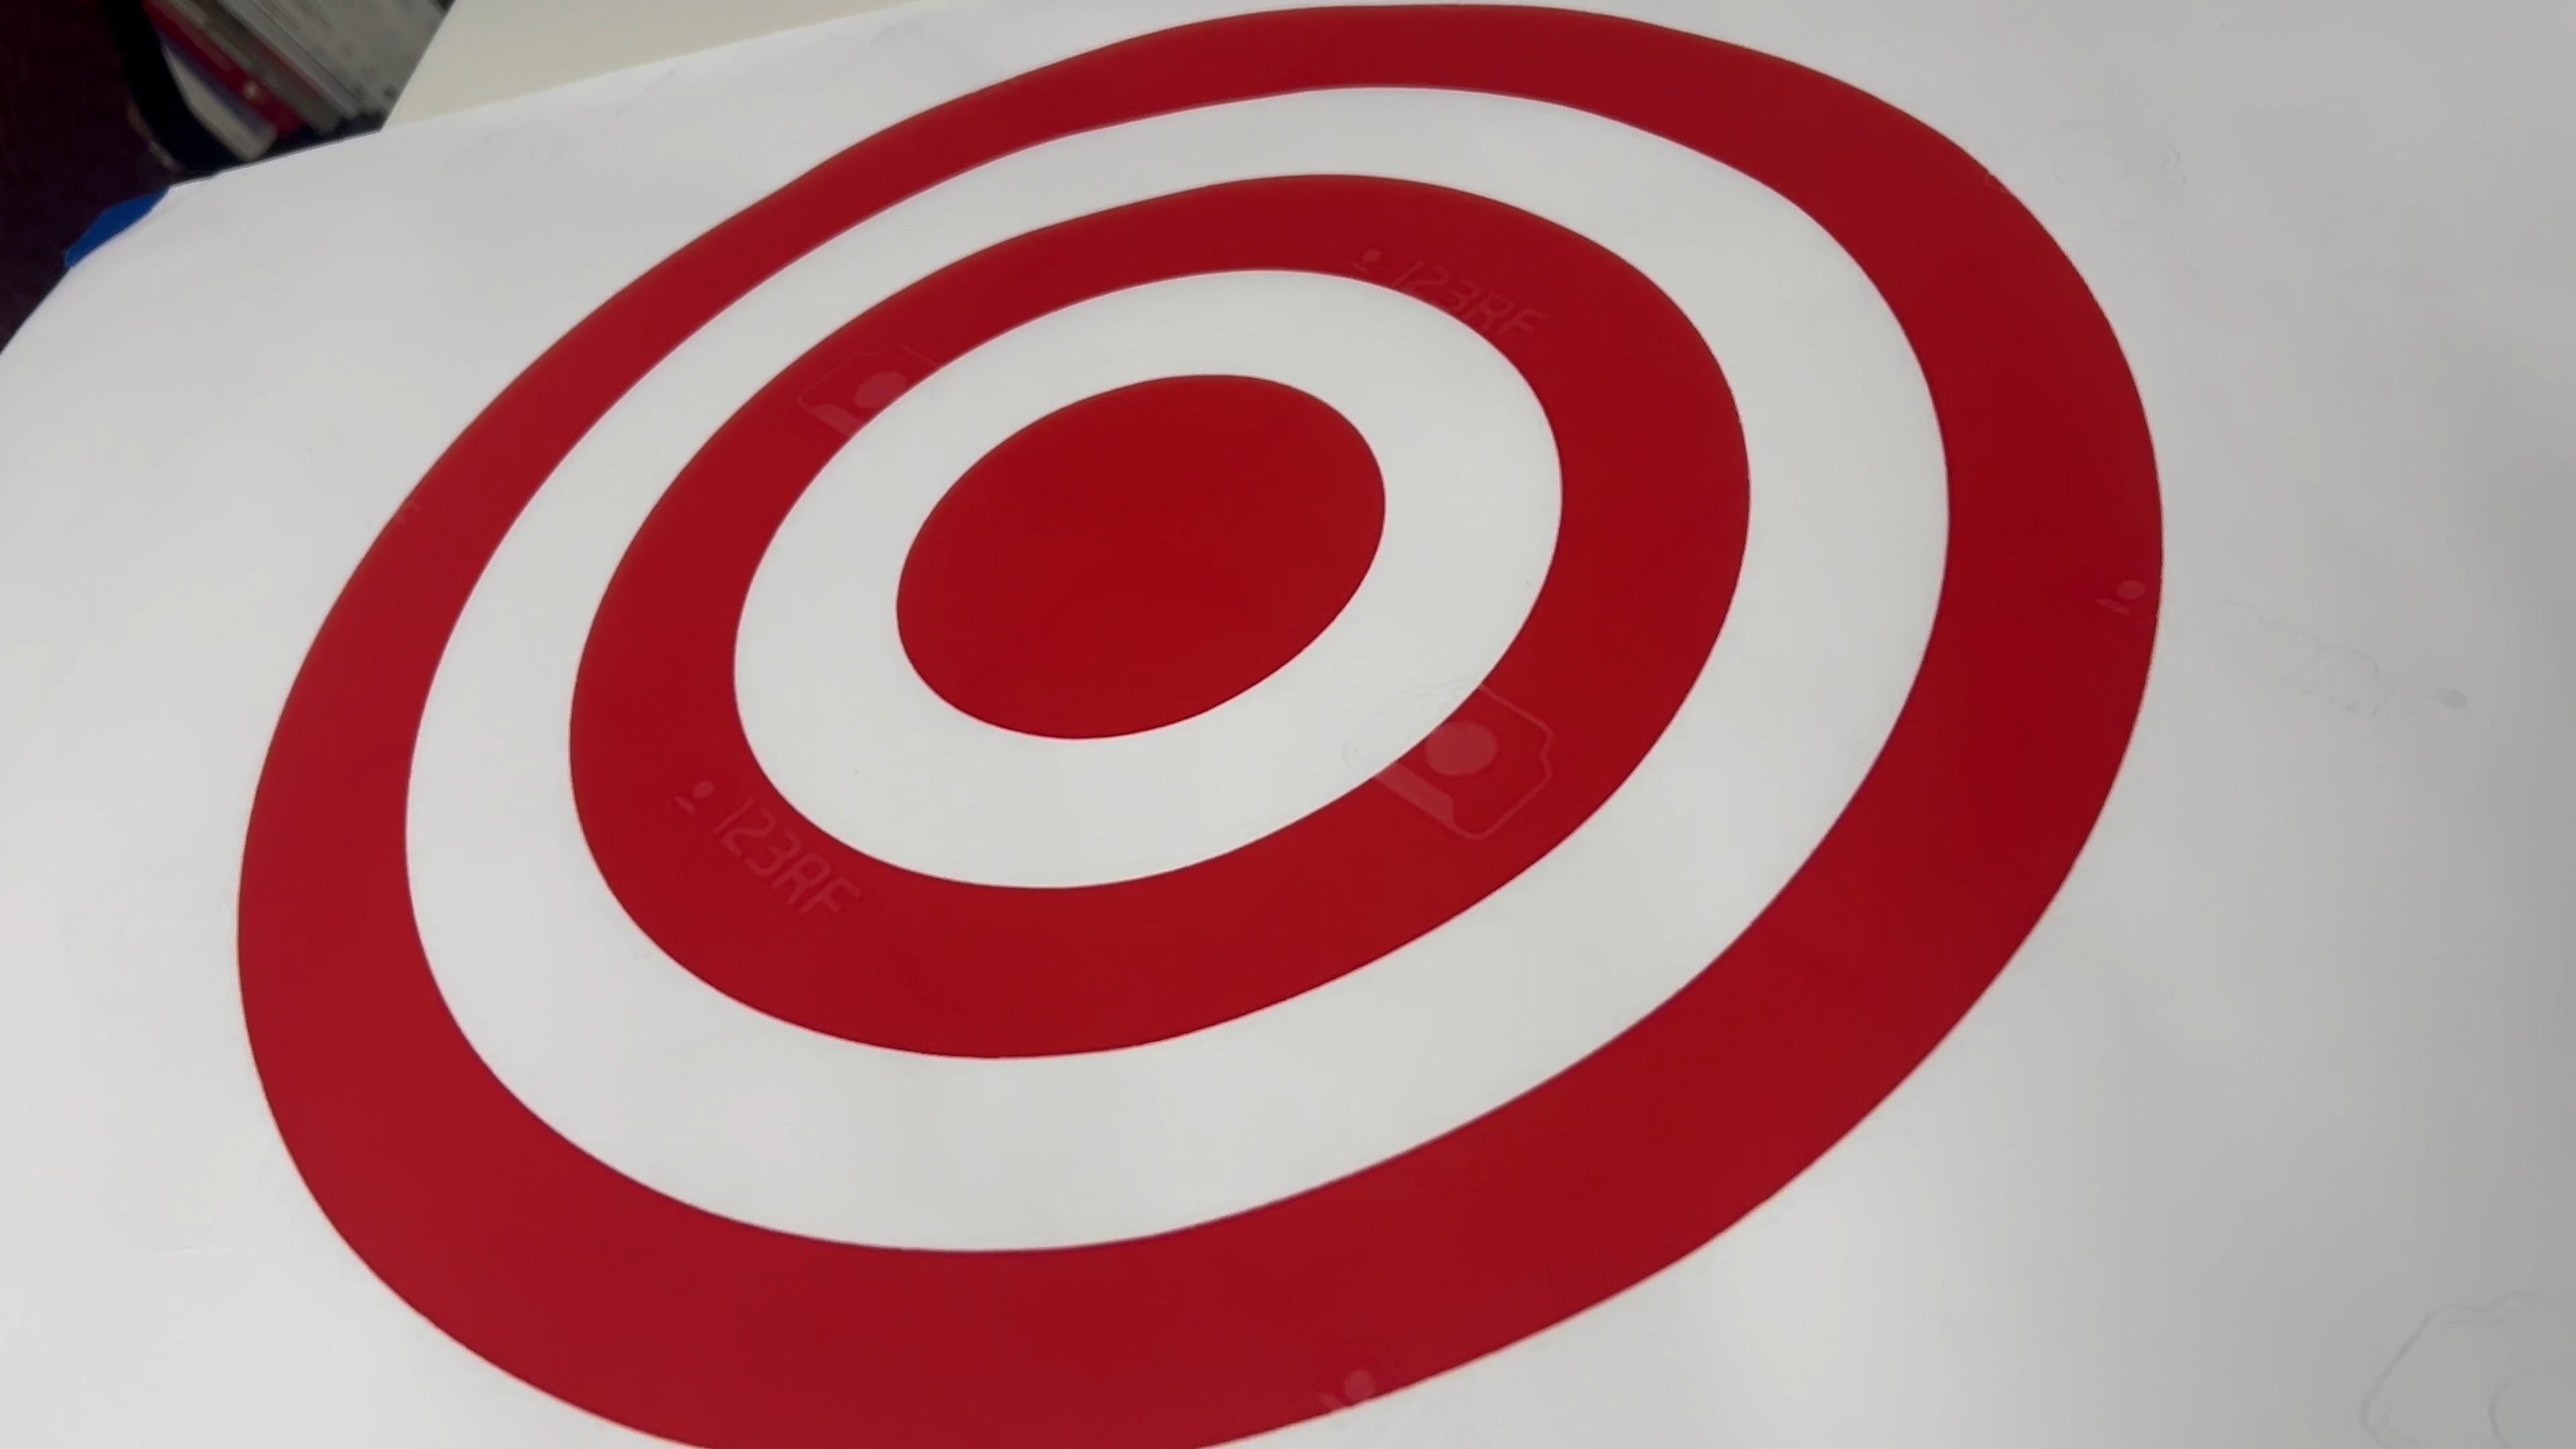target_red: (235, 2, 2180, 1449)
